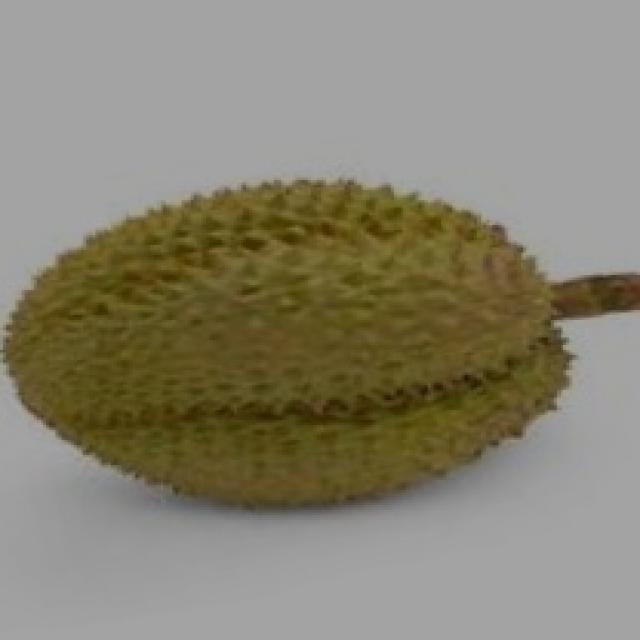fruit: (0, 147, 357, 565), (258, 148, 612, 562)
